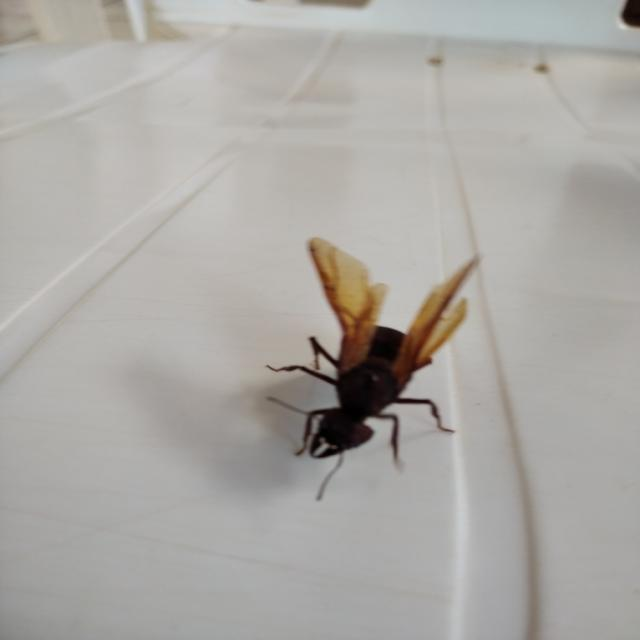Alive-Female-Alate: (265, 236, 483, 501)
